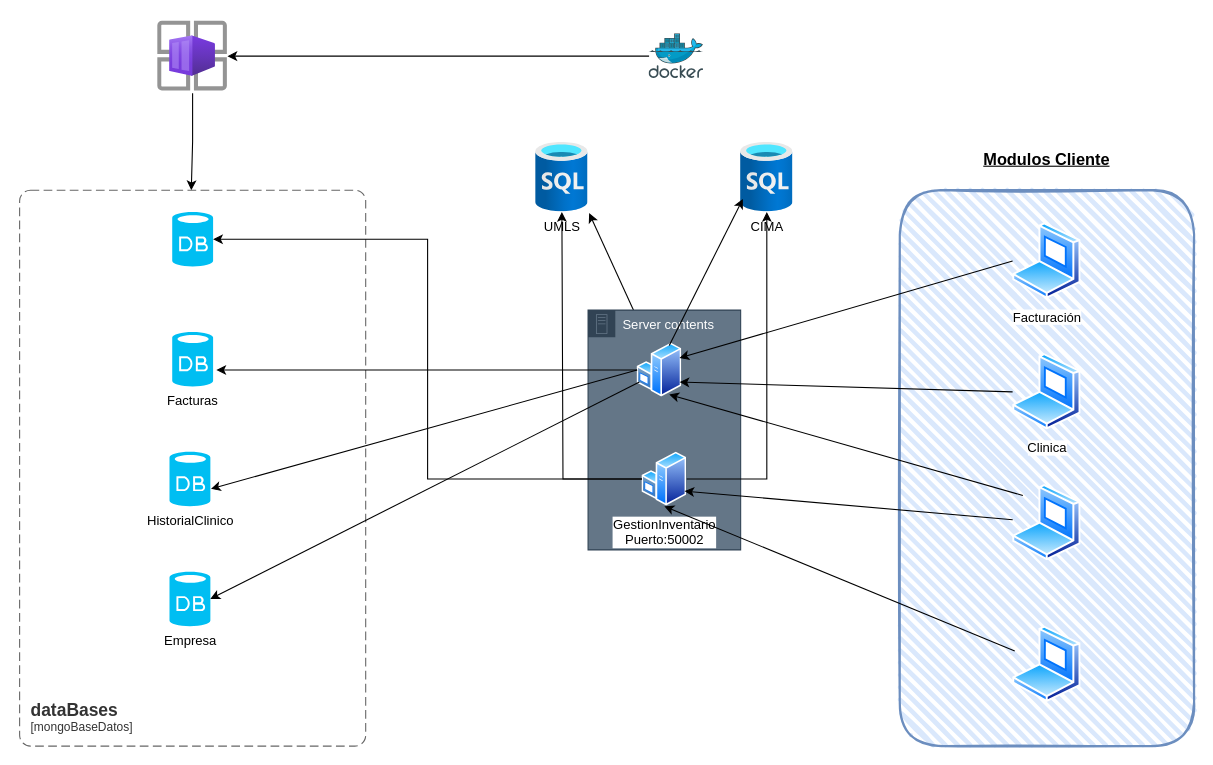
The diagram is 1213 pixels wide and 765 high, and some of its shapes have lost their labels. Here are the shapes that lost their labels. From the top down, the centre of each, then its label:
At pixel 192 56: "Puerto - 27017:27017 Servicio: MongoDB".
At pixel 192 238: "Inventario".
At pixel 659 369: "GestionClinica Puerto:50001".
At pixel 1046 522: "Procedimientos+informes".
At pixel 1046 664: "Gestion Inventario".
